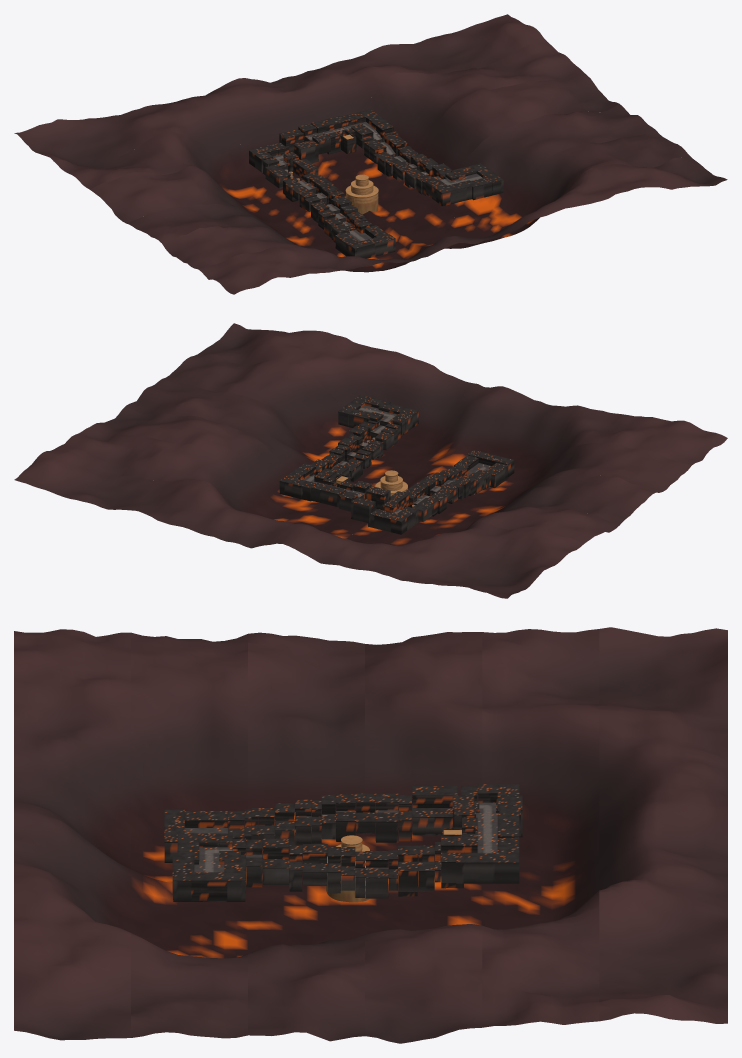
Rendered from geyser_fields_terrain.glb.
The picture shows the model from 3 angles, top to bottom: view 1: azimuth 30°, elevation 25°; view 2: azimuth 150°, elevation 25°; view 3: azimuth 270°, elevation 25°; orthographic projection. The views are drawn at different scales.
Parts seen in each view (by area): view 1: backdrop_5, backdrop_4, backdrop_3, backdrop_2, backdrop_1, backdrop_0, terrain_J, terrain_G, terrain_E, terrain_B, terrain_H, terrain_A (+4 smaller); view 2: backdrop_0, backdrop_5, backdrop_1, backdrop_3, backdrop_2, backdrop_4, terrain_E, terrain_H, terrain_J, terrain_G, terrain_C, terrain_A (+4 smaller); view 3: backdrop_5, backdrop_0, backdrop_4, backdrop_1, backdrop_2, backdrop_3, terrain_G, terrain_H, terrain_J, terrain_C, terrain_B, terrain_D (+4 smaller).
Boxes of the visible parts, x1,y1,x2,y2 form: backdrop_5: (14,14,547,166); backdrop_4: (54,42,583,198); backdrop_3: (90,72,619,225); backdrop_2: (126,104,655,250); backdrop_1: (162,130,691,272); backdrop_0: (198,157,727,294); terrain_J: (345,163,503,214); terrain_G: (349,109,418,174); terrain_E: (249,123,330,172); terrain_B: (313,198,372,242); terrain_H: (385,153,451,194); terrain_A: (335,225,395,258); backdrop_0: (198,323,727,468); backdrop_5: (14,449,546,598); backdrop_1: (162,353,691,501); backdrop_3: (90,406,619,545); backdrop_2: (126,379,655,527); backdrop_4: (54,427,583,574); terrain_E: (339,481,414,534); terrain_H: (328,421,397,475); terrain_J: (338,395,407,495); terrain_G: (279,455,360,499); terrain_C: (404,476,464,513); terrain_A: (454,450,514,489); backdrop_5: (599,627,727,1023); backdrop_0: (14,629,130,1040); backdrop_4: (482,629,599,1027); backdrop_1: (131,632,247,1038); backdrop_2: (248,632,364,1041); backdrop_3: (365,632,482,1043); terrain_G: (365,836,519,898); terrain_H: (246,838,365,897); terrain_J: (172,835,369,902); terrain_C: (311,793,398,843); terrain_B: (228,799,311,856); terrain_D: (398,786,477,841).
Bounding box in the file's own units: 553 × 65.2 × 427.
